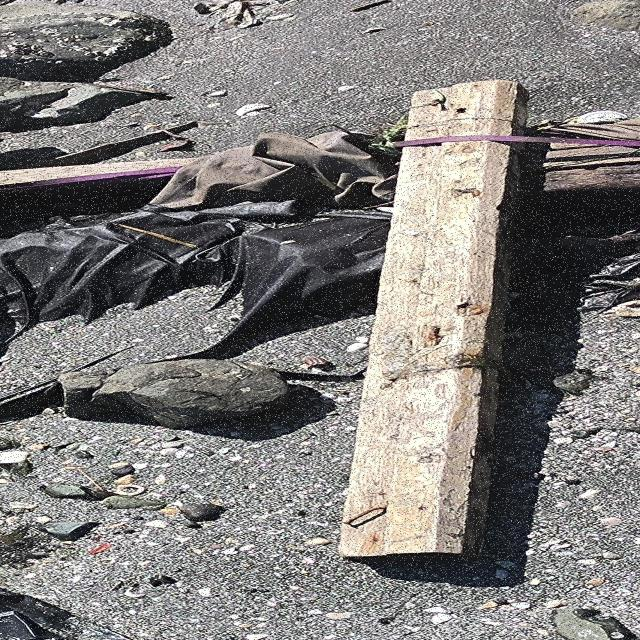wood_waste: (330, 78, 526, 563)
